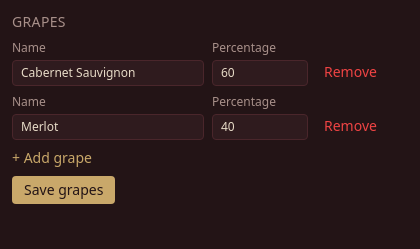
Test case: GrapesSection › clears the admin key and shows a session-expired message on a 401
The image size is (420, 249).
Step 1. Click the button "Save grapes" → (64, 190), box [12,176,115,204]
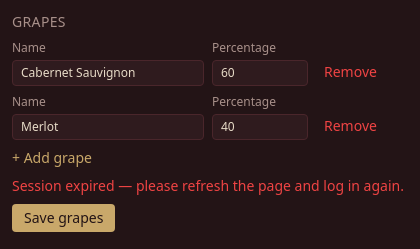
expect the text "Session expired — please refresh the page and log in again." is shown: met, box [12,176,404,195]
